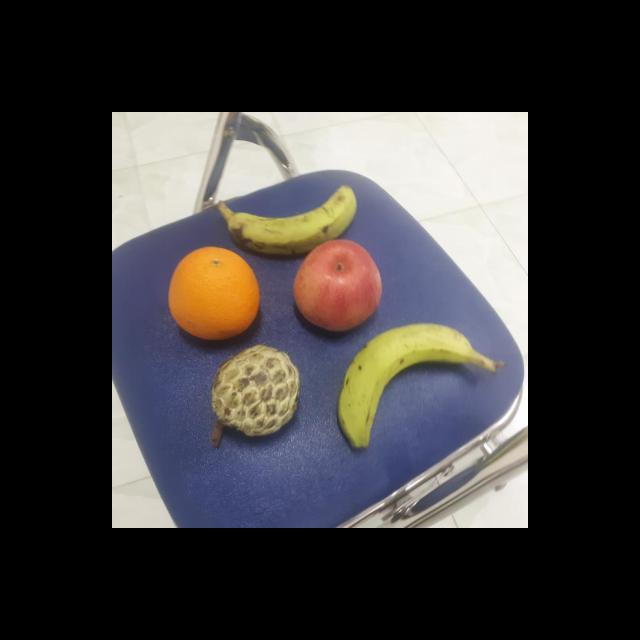Sakya fruit: (207, 343, 302, 442)
apple: (290, 237, 385, 333)
banana: (336, 320, 476, 450), (226, 181, 359, 258)
orange: (164, 242, 264, 342)
